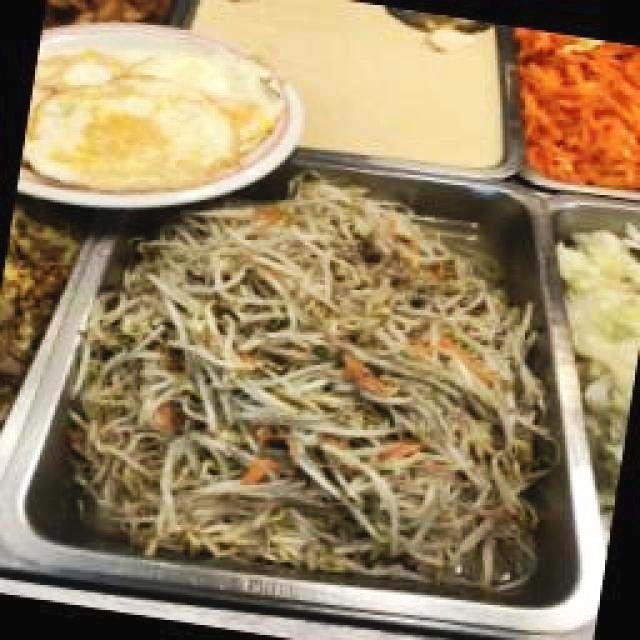carrot_eggs: (517, 33, 640, 184)
fried_eggs: (35, 43, 282, 187)
mung_bean_sprouts: (88, 167, 542, 602)
